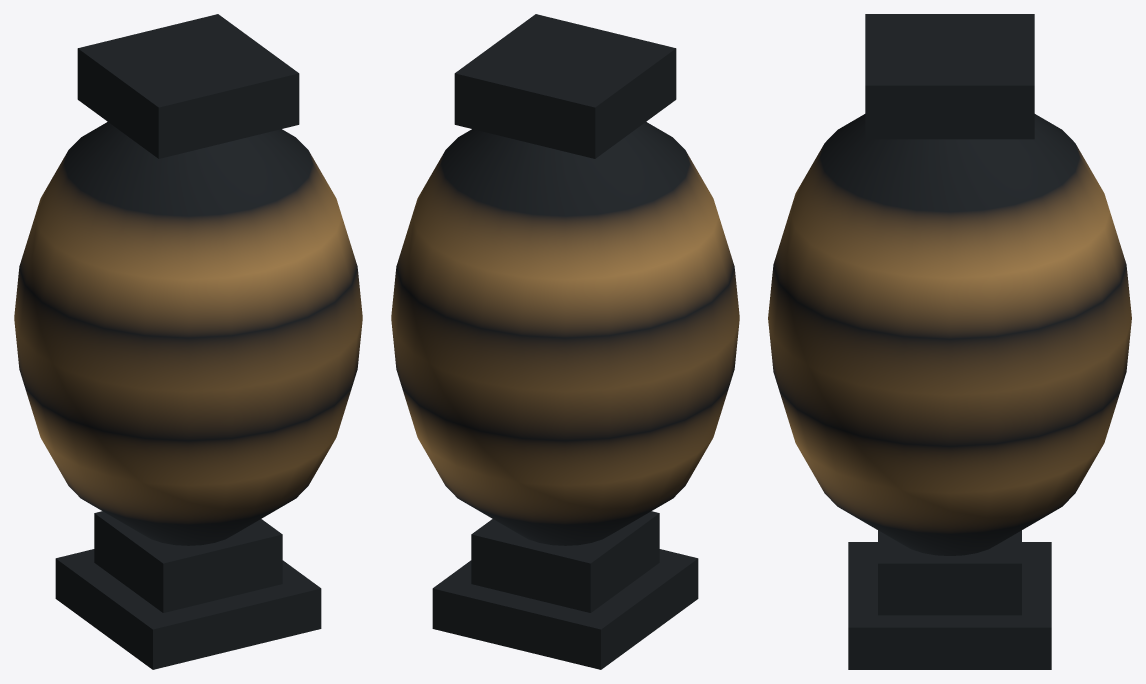
The model's file is lantern_standing.glb.
3 views of the same model, side by side, from view 1: azimuth 30°, elevation 25°; view 2: azimuth 150°, elevation 25°; view 3: azimuth 270°, elevation 25° (orthographic). The views are drawn at different scales.
Parts seen in each view (by area): view 1: kit_lantern_standing; view 2: kit_lantern_standing; view 3: kit_lantern_standing.
Boxes of the visible parts, x1,y1,x2,y2 form: kit_lantern_standing: (14, 14, 362, 669); kit_lantern_standing: (391, 14, 739, 669); kit_lantern_standing: (768, 14, 1131, 669).
Bounding box in the file's own units: 0.43 × 0.7525 × 0.43.
